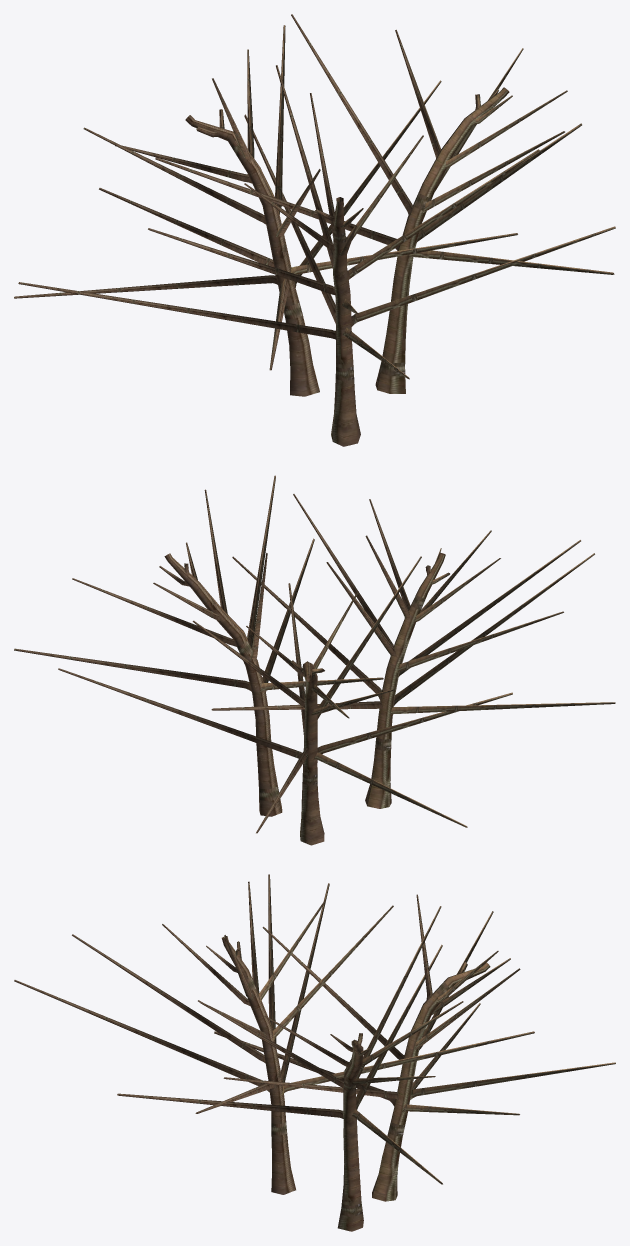
The picture shows the model from 3 angles, top to bottom: view 1: azimuth 30°, elevation 25°; view 2: azimuth 150°, elevation 25°; view 3: azimuth 270°, elevation 25°; orthographic projection. The views are drawn at different scales.
Visible parts, largest first — view 1: SM_Bucket_2H_01_LOD0; view 2: SM_Bucket_2H_01_LOD0; view 3: SM_Bucket_2H_01_LOD0.
Part boxes in pixels (x1,y1,x2,y2): SM_Bucket_2H_01_LOD0: (14, 14, 615, 446); SM_Bucket_2H_01_LOD0: (14, 475, 615, 845); SM_Bucket_2H_01_LOD0: (14, 874, 615, 1231).
Bounding box in the file's own units: 2.32 × 1.23 × 2.23.
